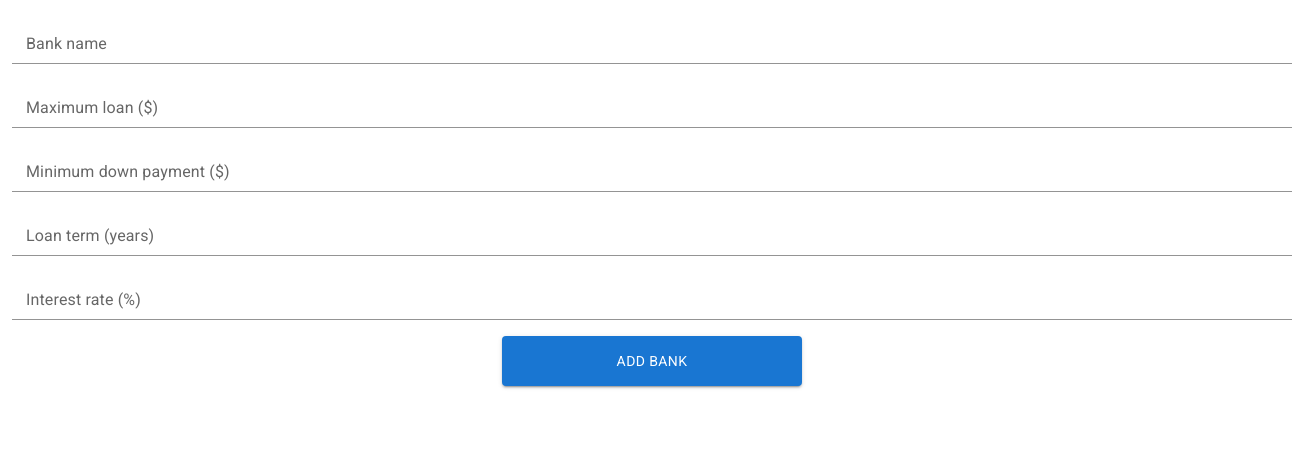
Test: NewBankCard Component › shows validation error for duplicate bank name
Note: Fill form with existing bank name
In the field labelled "Bank name": (652, 48) [12,32,1292,64], type "Test Bank"
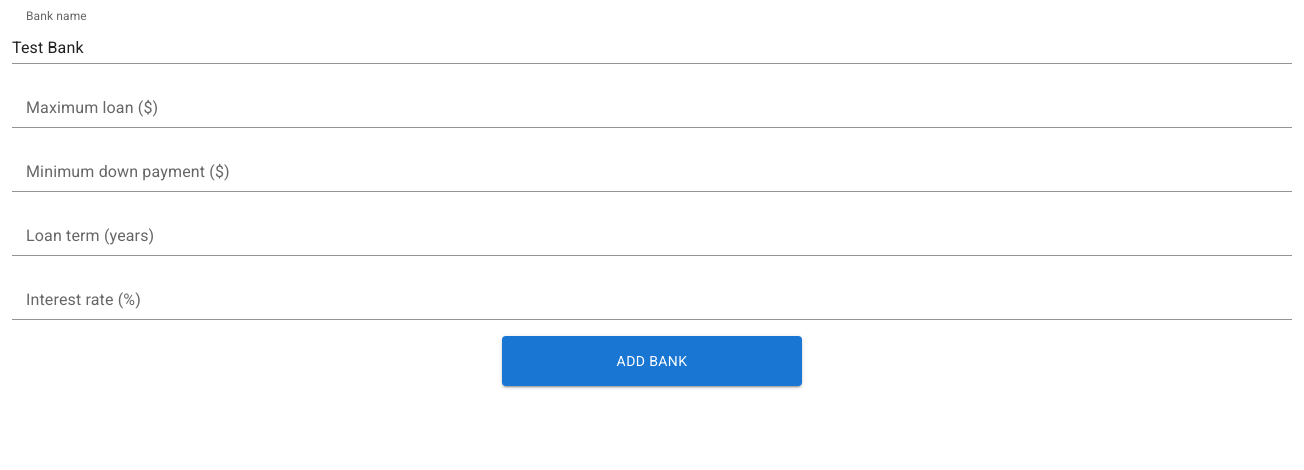
In the field labelled "Maximum loan ($)": (652, 112) [12,96,1292,128], type "500000"
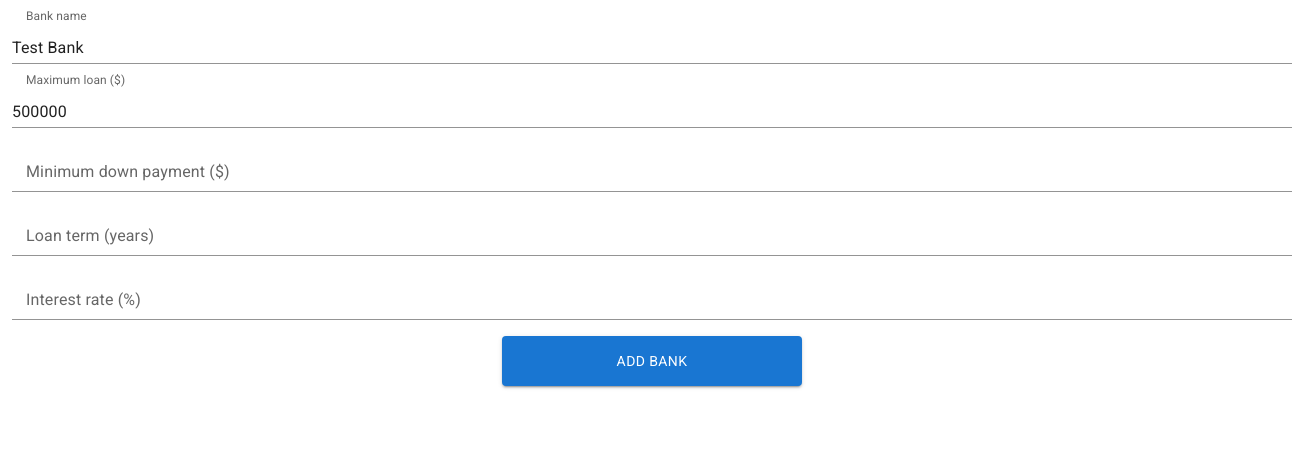
In the field labelled "Minimum down payment ($)": (652, 176) [12,160,1292,192], type "50000"
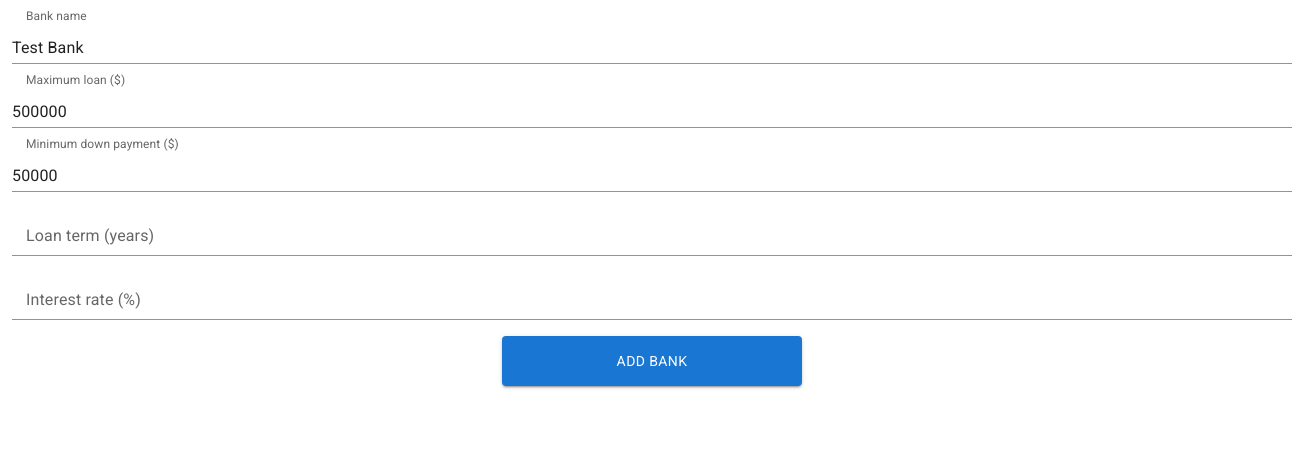
In the field labelled "Loan term (years)": (652, 240) [12,224,1292,256], type "20"
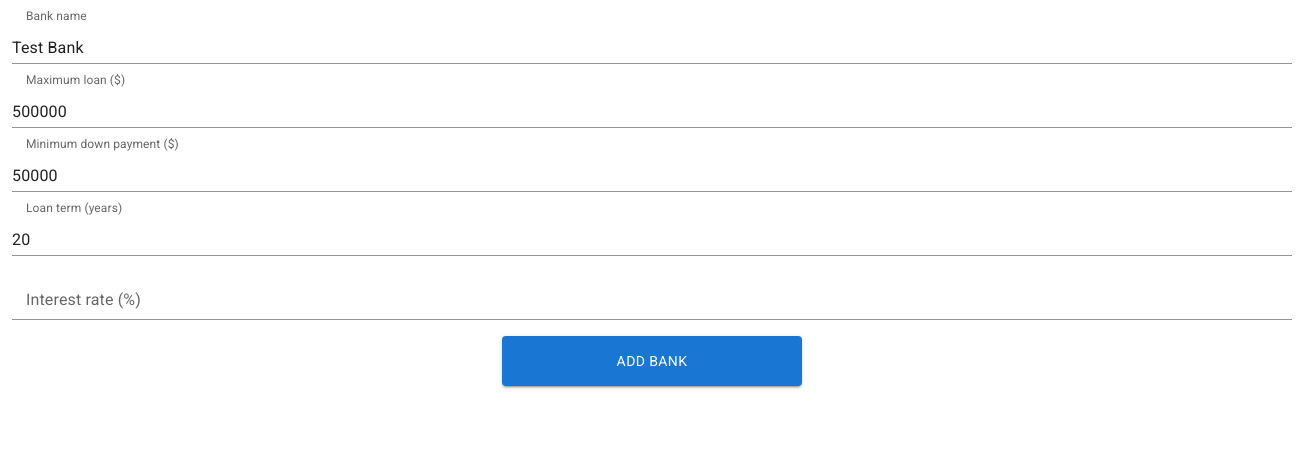
In the field labelled "Interest rate (%)": (652, 304) [12,288,1292,320], type "5"
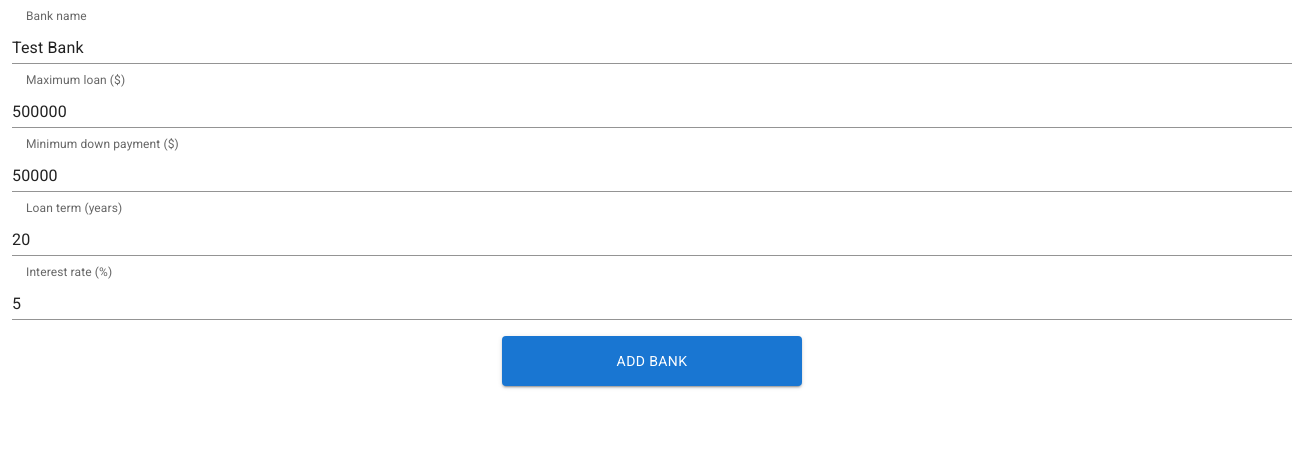
Click the button "Add Bank": (652, 361) [502,336,802,386]
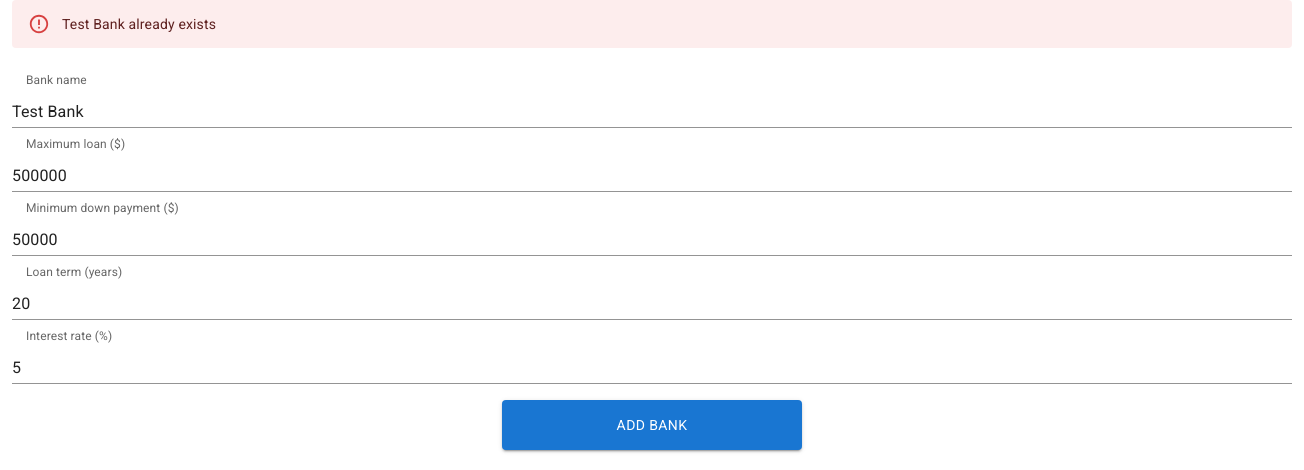
Now the text "Test Bank already exists" is shown, box [62,16,216,32]
